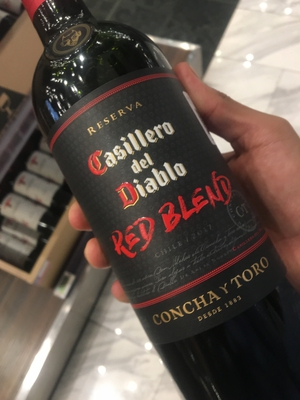casillero del diablo red blend: (26, 35, 293, 371)
